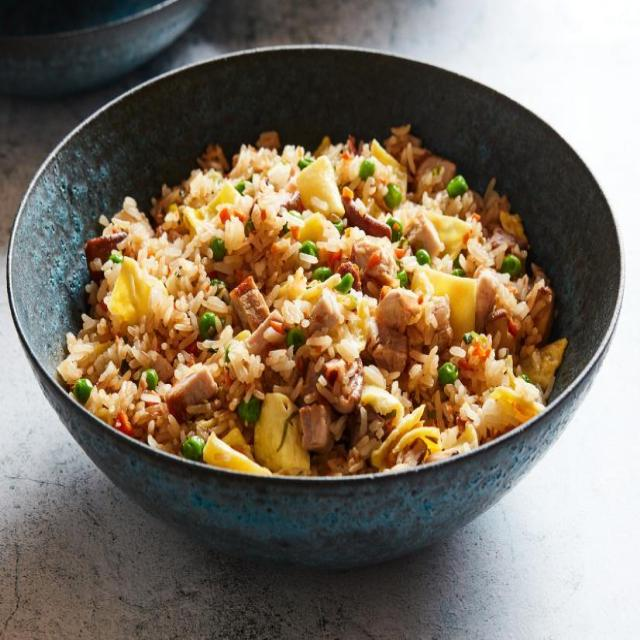Nasi Goreng: (55, 127, 566, 476)
